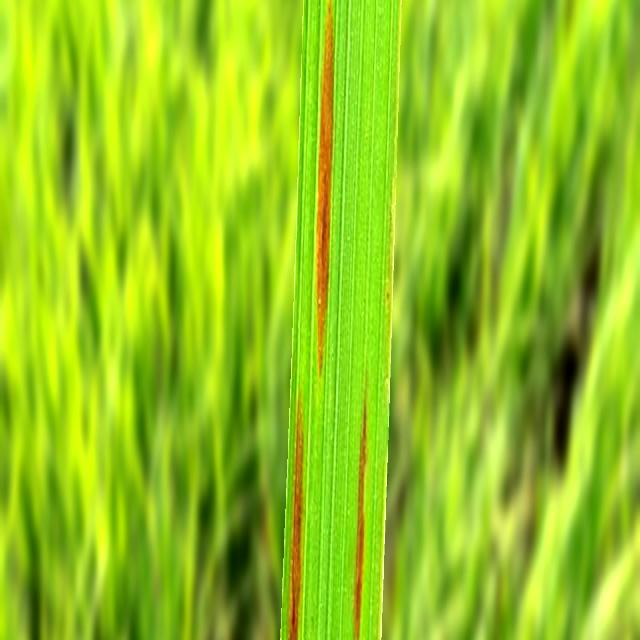NBS: (316, 0, 333, 371), (287, 397, 304, 640), (353, 392, 367, 640)
